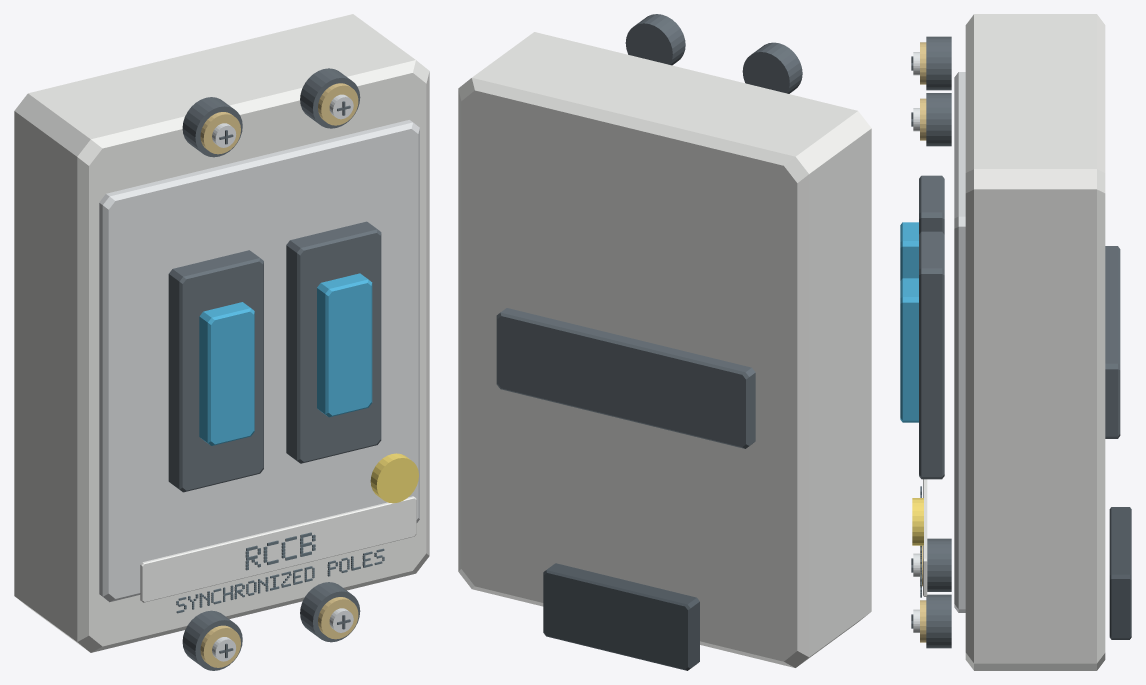
Rendered from rccb2P.glb.
3 views of the same model, side by side, from view 1: azimuth 30°, elevation 25°; view 2: azimuth 150°, elevation 25°; view 3: azimuth 270°, elevation 25° (orthographic). The views are drawn at different scales.
Visible parts, largest first — view 1: rccb2P-detailed; view 2: rccb2P-detailed; view 3: rccb2P-detailed.
Boxes of the visible parts, x1,y1,x2,y2 form: rccb2P-detailed: (14, 14, 429, 670); rccb2P-detailed: (458, 14, 871, 670); rccb2P-detailed: (900, 14, 1131, 670).
Bounding box in the file's own units: 2.33 × 3.56 × 1.36.
